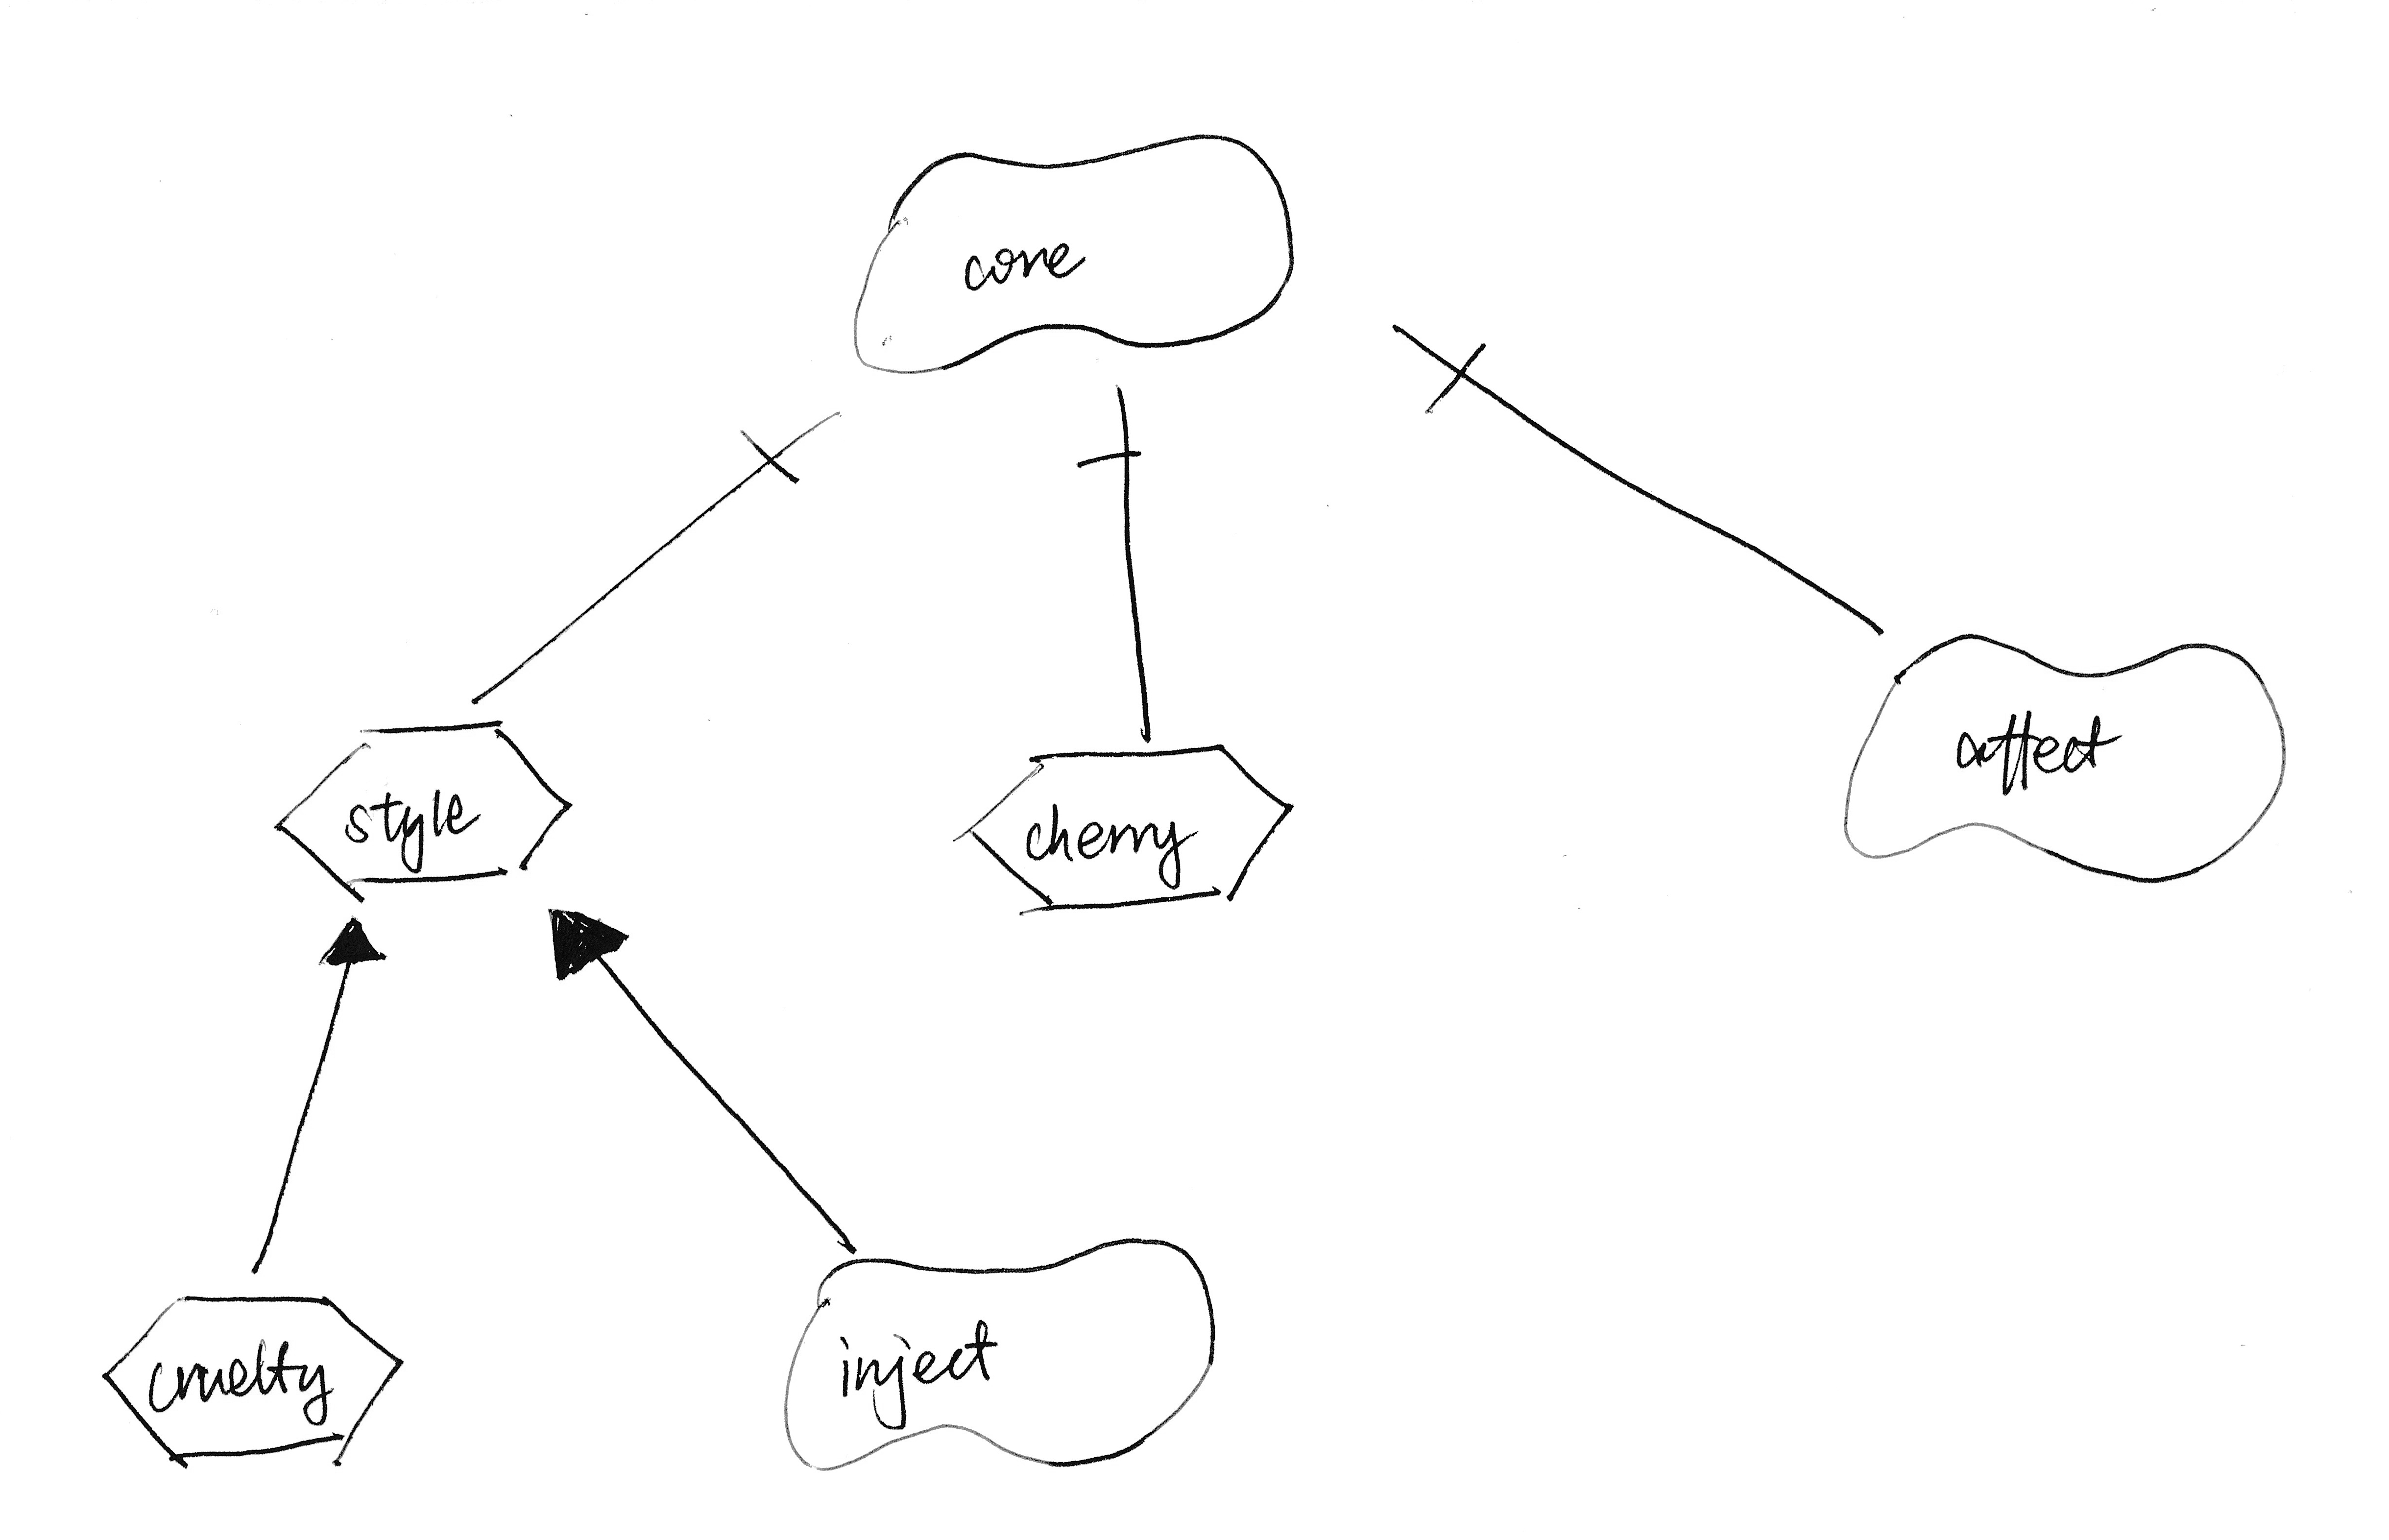and: (719, 406, 831, 514), (1402, 322, 1504, 439), (1057, 422, 1161, 496)
or: (517, 892, 648, 991), (310, 901, 407, 990)
quality: (1825, 613, 2312, 902), (831, 117, 1325, 387), (770, 1226, 1242, 1488)
task: (937, 723, 1308, 929), (89, 1272, 425, 1491), (254, 702, 585, 922)
